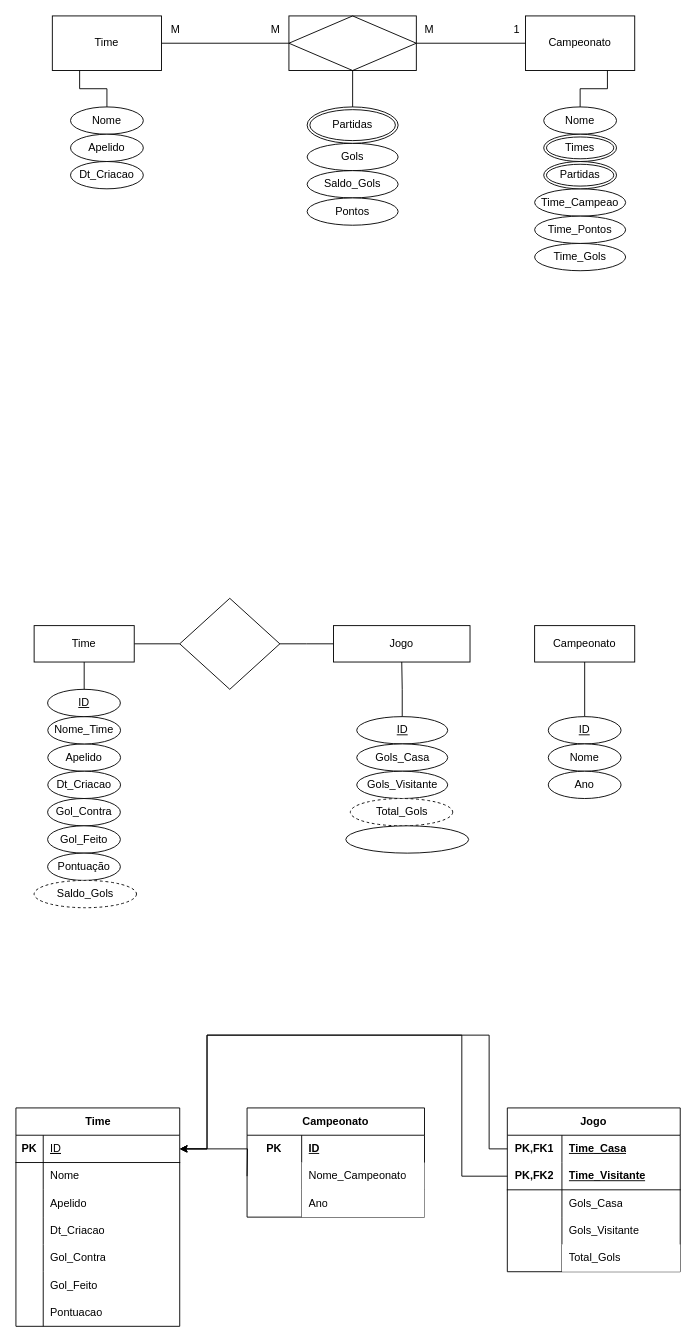
Image size: 696x1342. Some labels were removed from this diagram. Each missing label, with the box of its shape:
Joga: (179, 597, 280, 689)
Participa de/ Tem: (288, 15, 416, 71)
Status_Final_Rodada: (345, 825, 469, 853)
